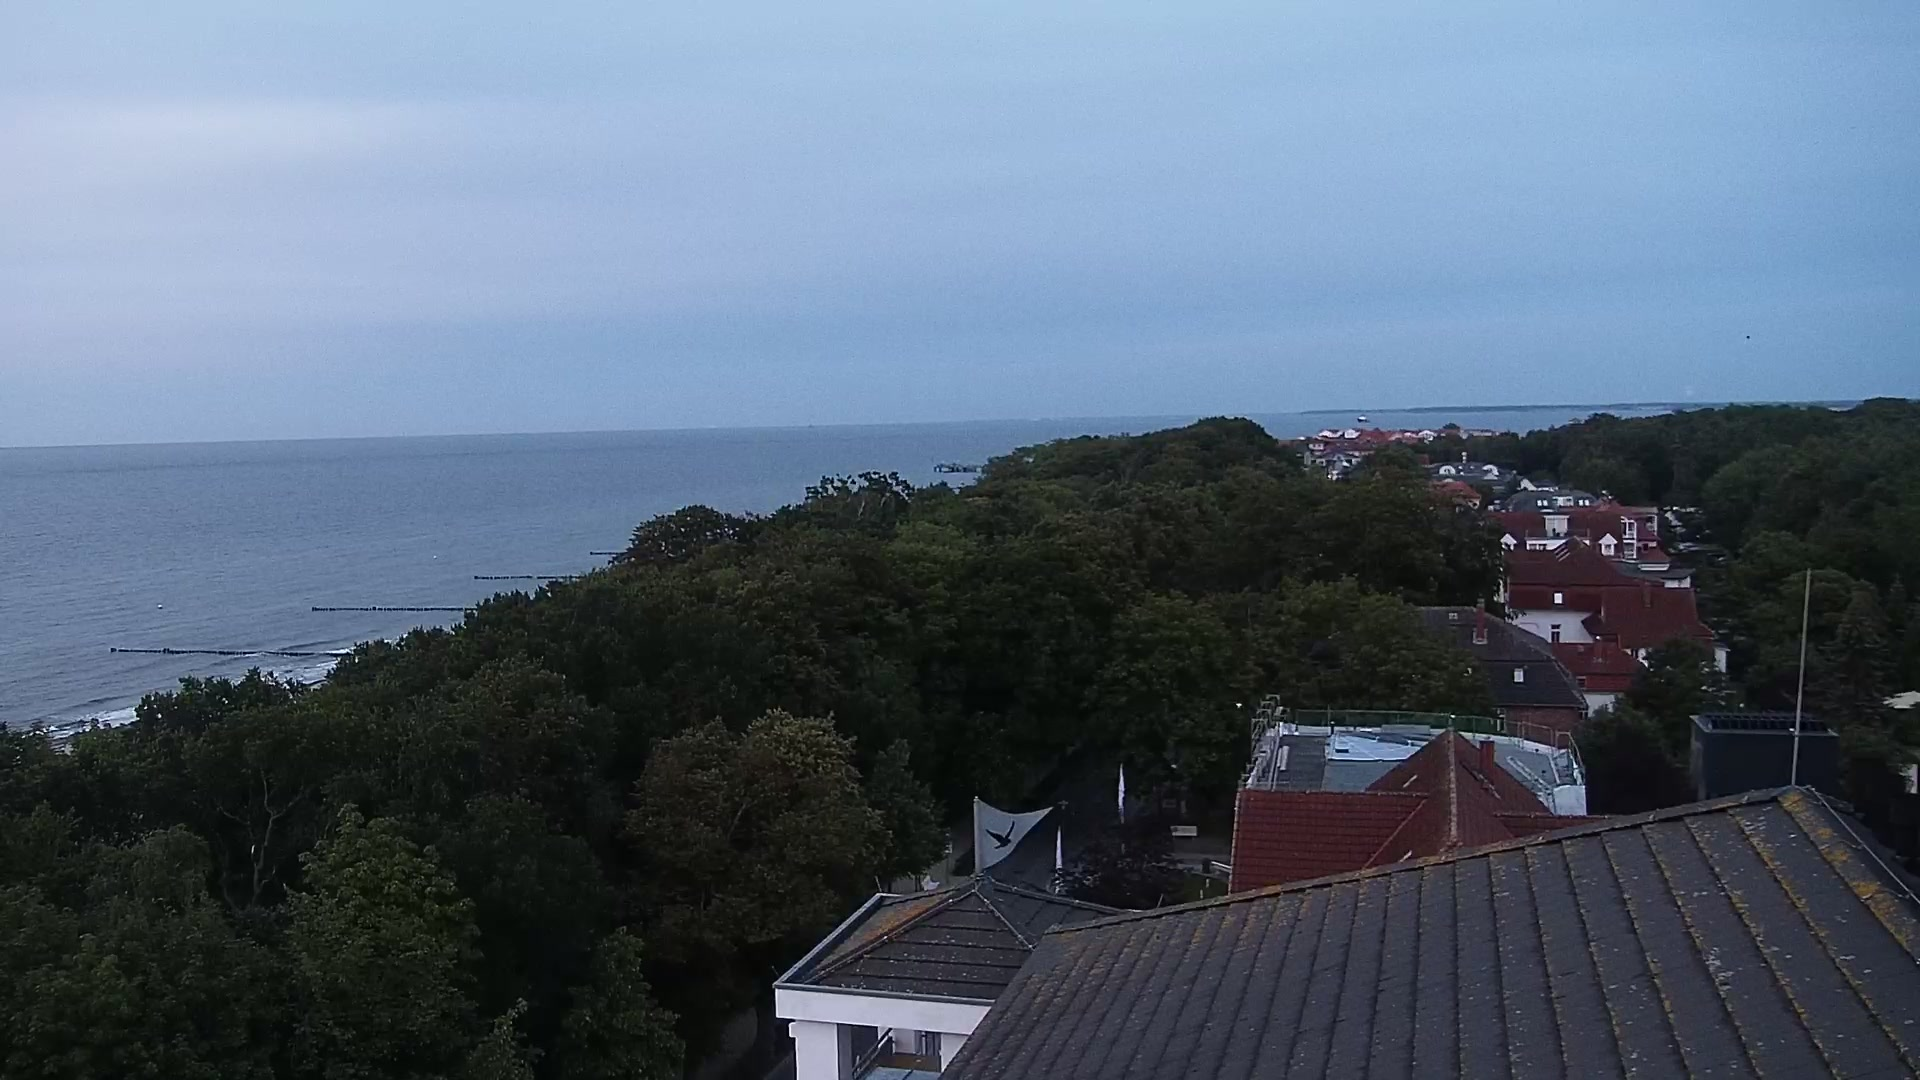sea: (1356, 411, 1369, 421)
